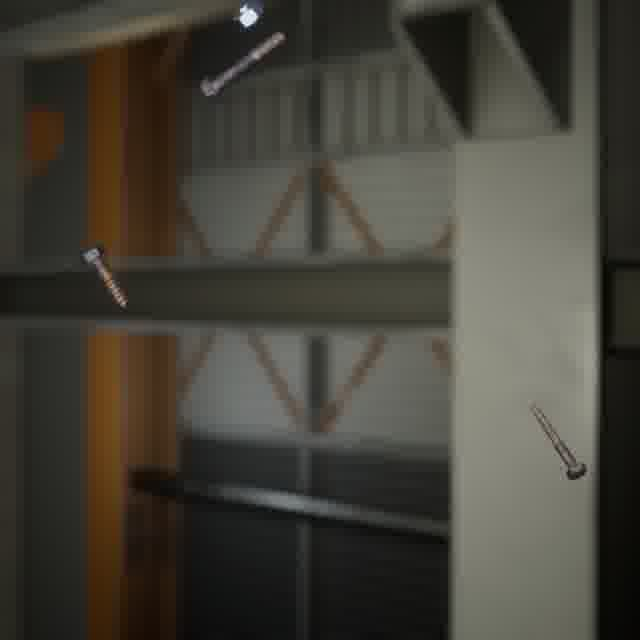bolt: (195, 25, 291, 108), (525, 398, 592, 484), (74, 239, 133, 312)
nut: (228, 0, 268, 33)
